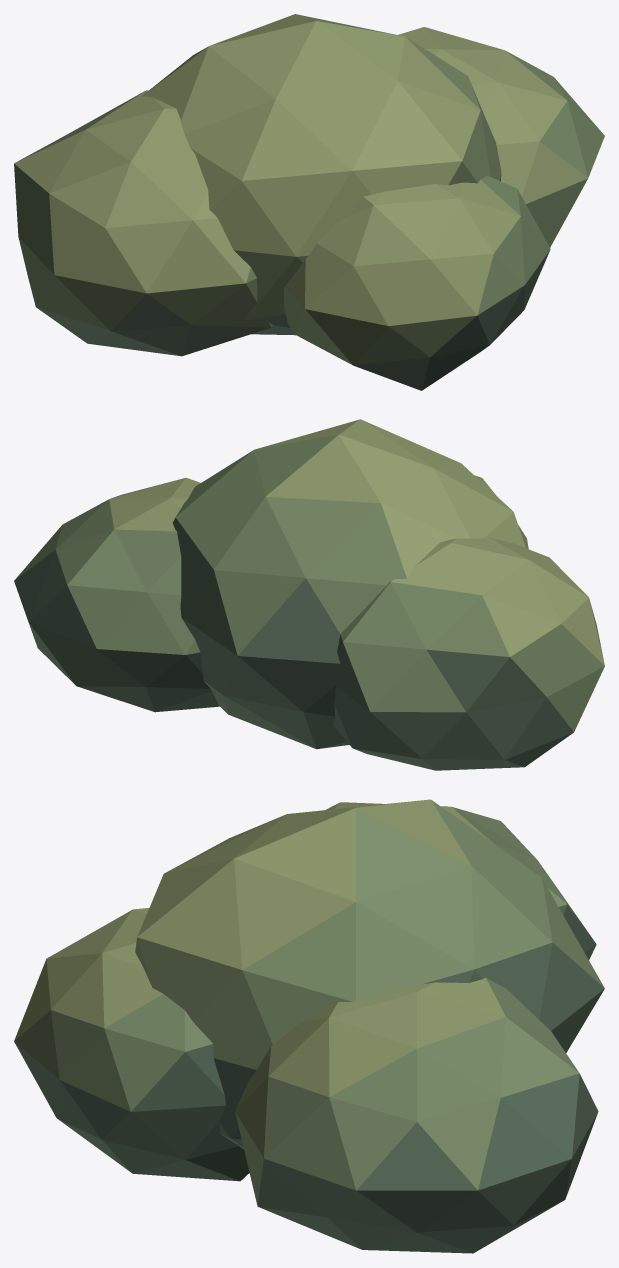
File: bush_clump.glb
3 views of the same model, one above another, from view 1: azimuth 30°, elevation 25°; view 2: azimuth 150°, elevation 25°; view 3: azimuth 270°, elevation 25° (orthographic). The views are drawn at different scales.
Visible parts, largest first — view 1: bush_clump; view 2: bush_clump; view 3: bush_clump.
Boxes of the visible parts, left/top/right/bottom form: bush_clump: left=14, top=14, right=604, bottom=390; bush_clump: left=14, top=419, right=604, bottom=770; bush_clump: left=14, top=799, right=604, bottom=1253.
Size of the model in its own units: 1.86 by 0.9513 by 1.45.
